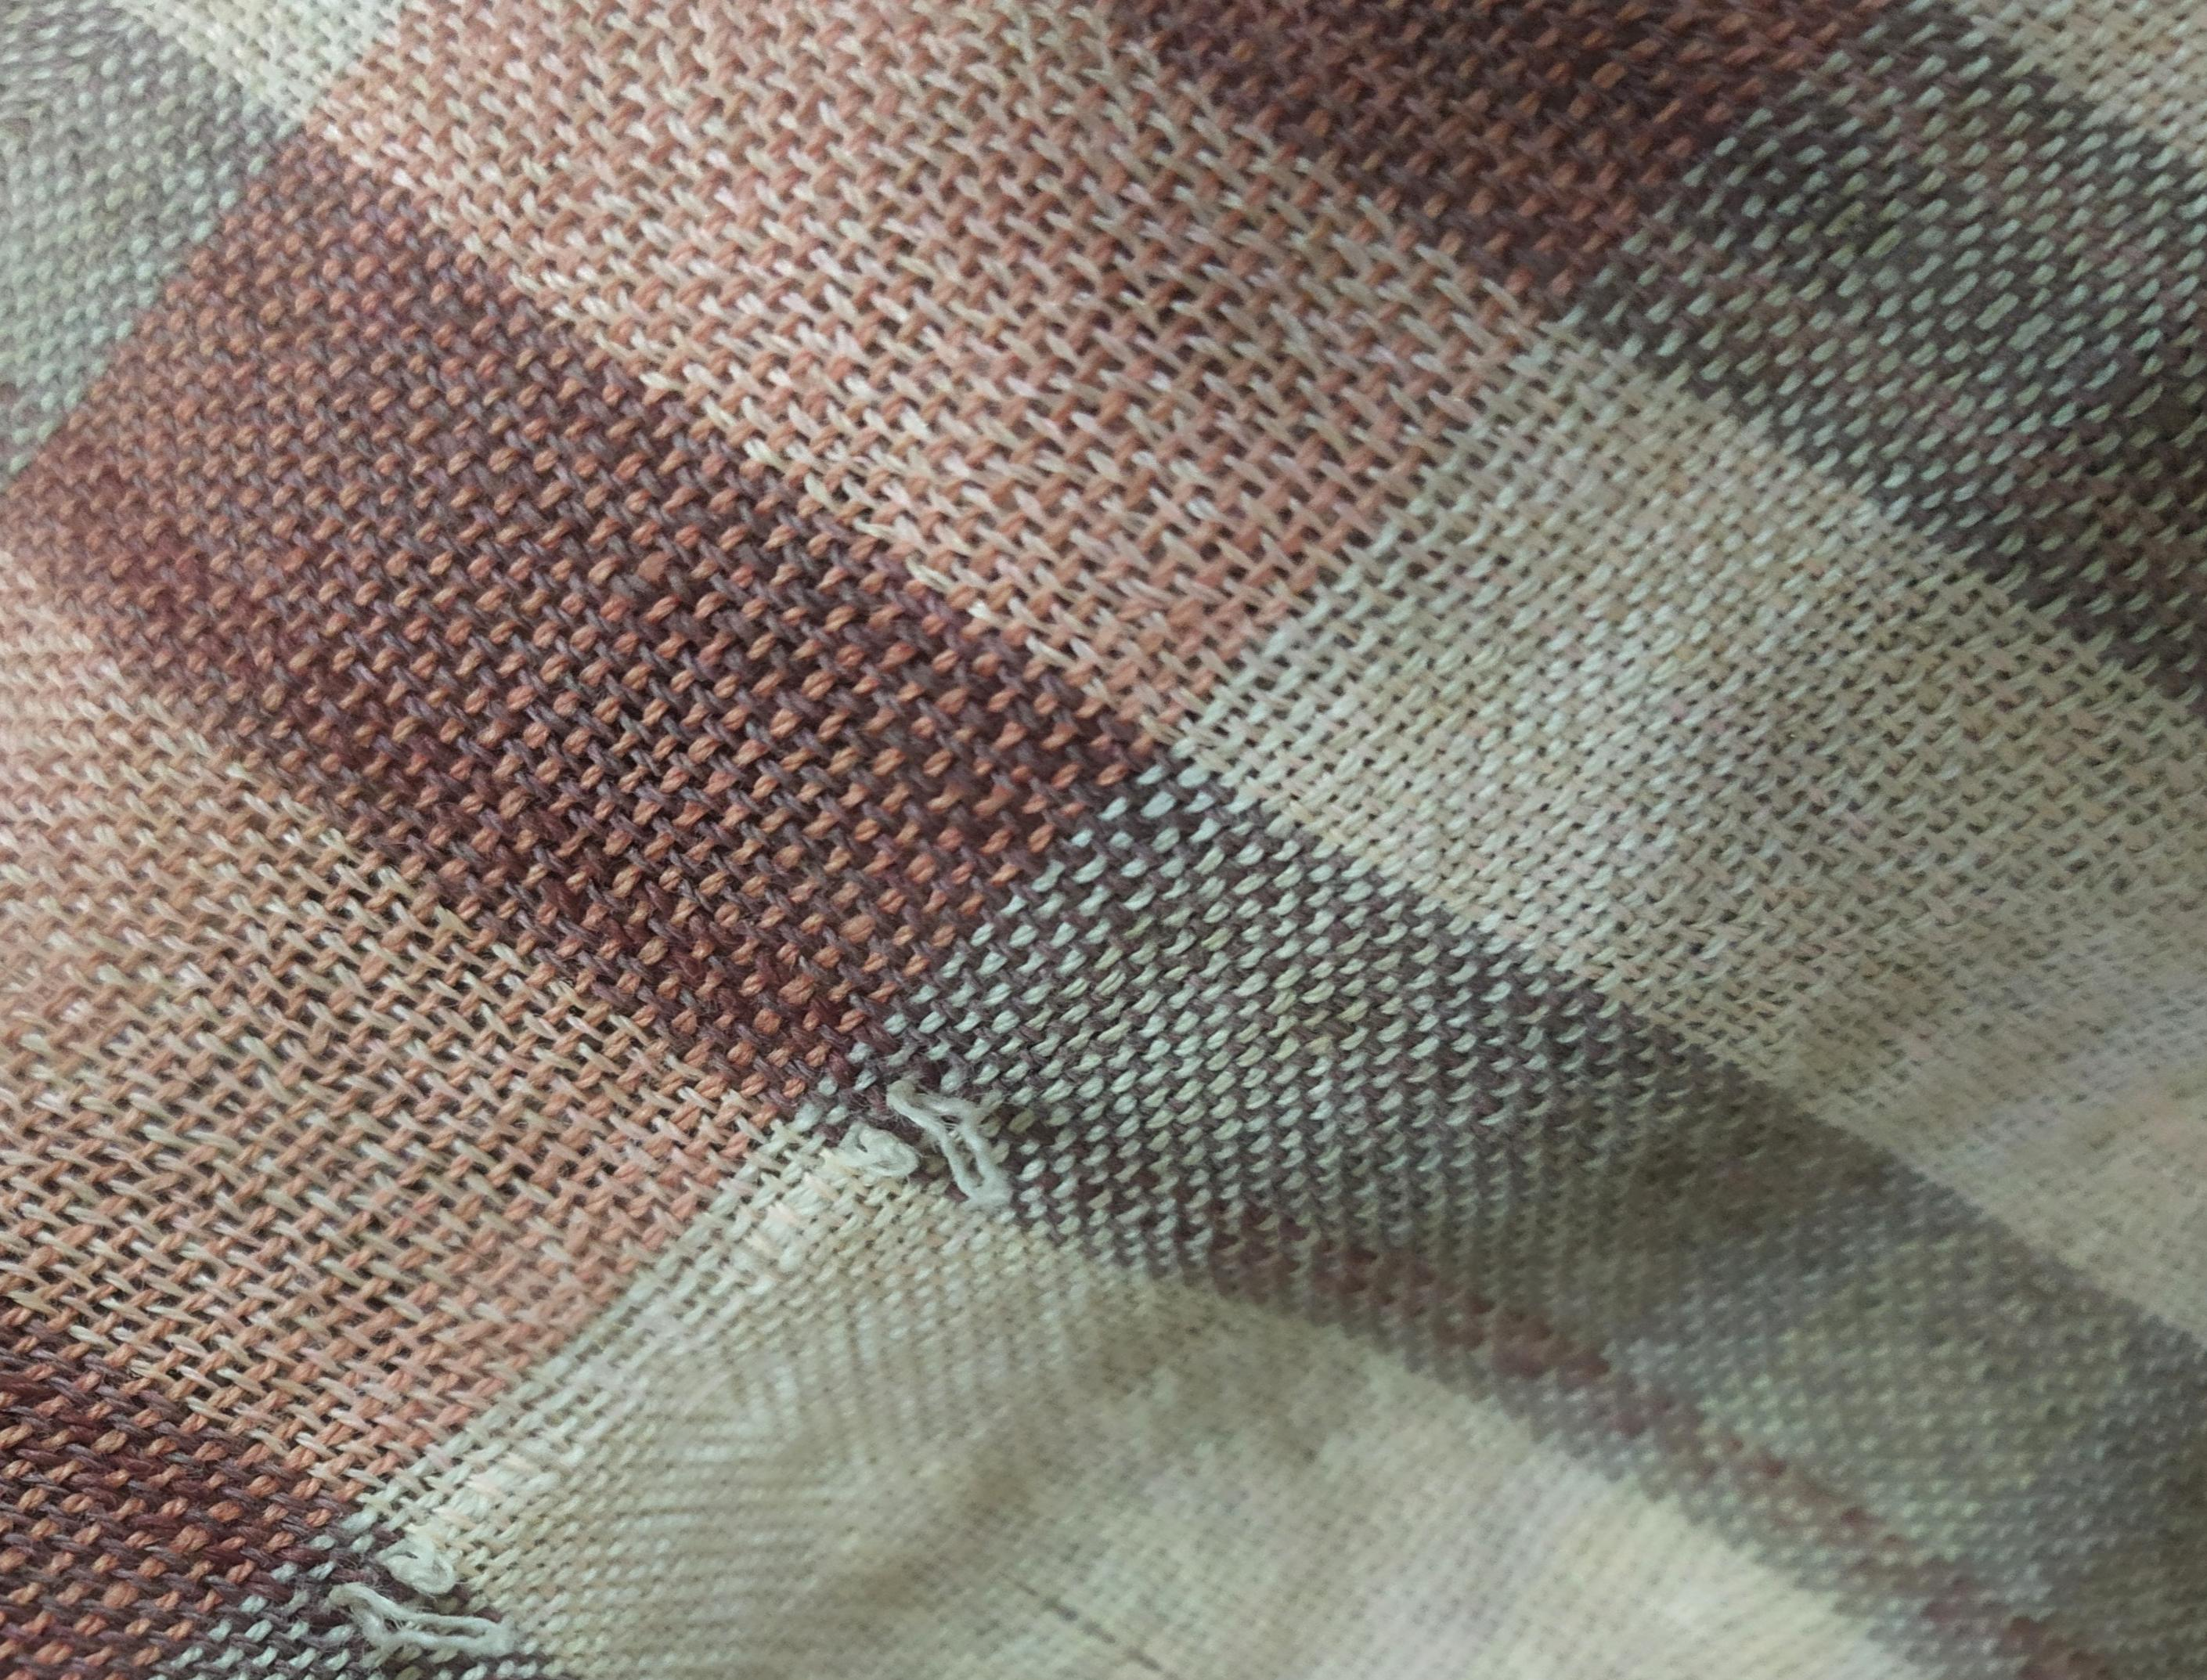snag: (836, 1041, 1051, 1234), (314, 1525, 572, 1655)
